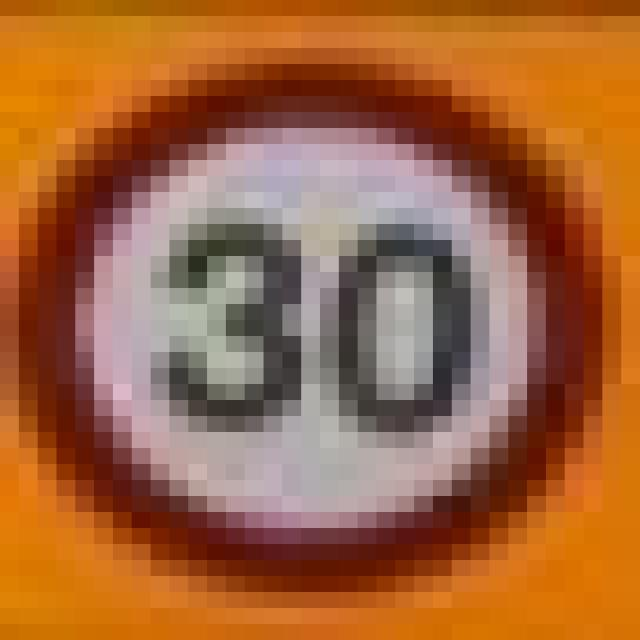speed_limit_30: (19, 48, 583, 576)
